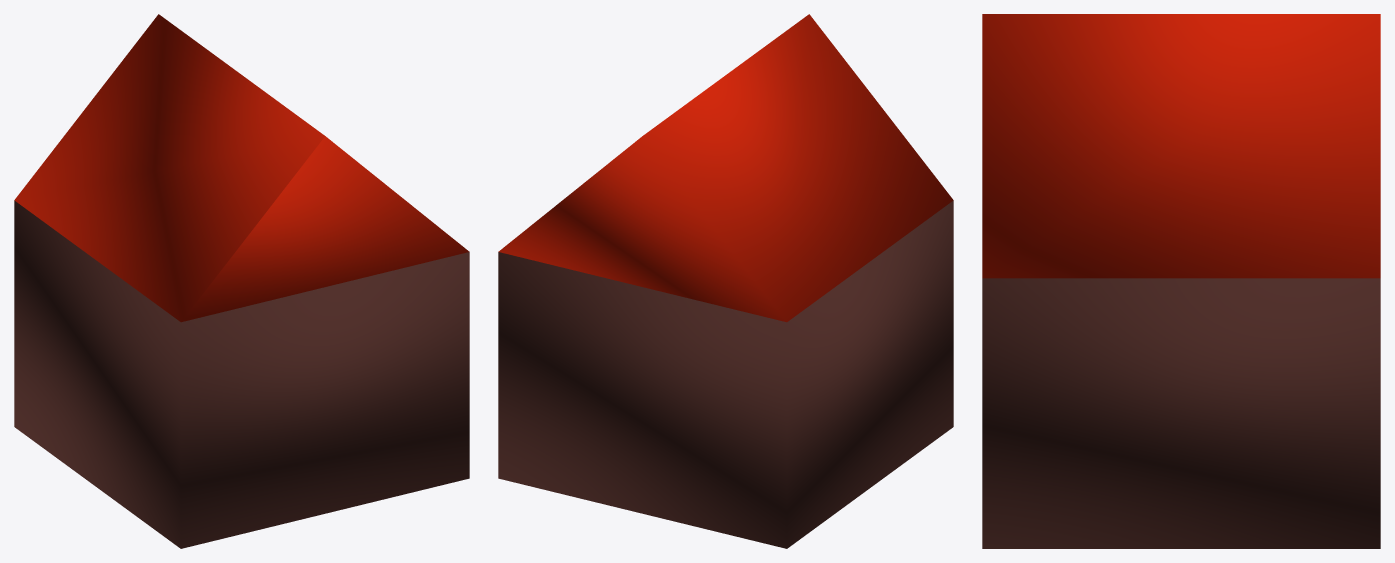
File: tent.fbx
The picture shows the model from 3 angles, left to right: view 1: azimuth 30°, elevation 25°; view 2: azimuth 150°, elevation 25°; view 3: azimuth 270°, elevation 25°; orthographic projection. The views are drawn at different scales.
Parts seen in each view (by area): view 1: Cube, Cube_001; view 2: Cube, Cube_001; view 3: Cube, Cube_001.
Part boxes in pixels (x1,y1,x2,y2): Cube: (14,200,469,548); Cube_001: (14,14,469,322); Cube: (498,200,953,548); Cube_001: (498,14,953,322); Cube: (982,278,1380,548); Cube_001: (982,14,1380,278).
Size of the model in its own units: 4 by 5 by 4.
